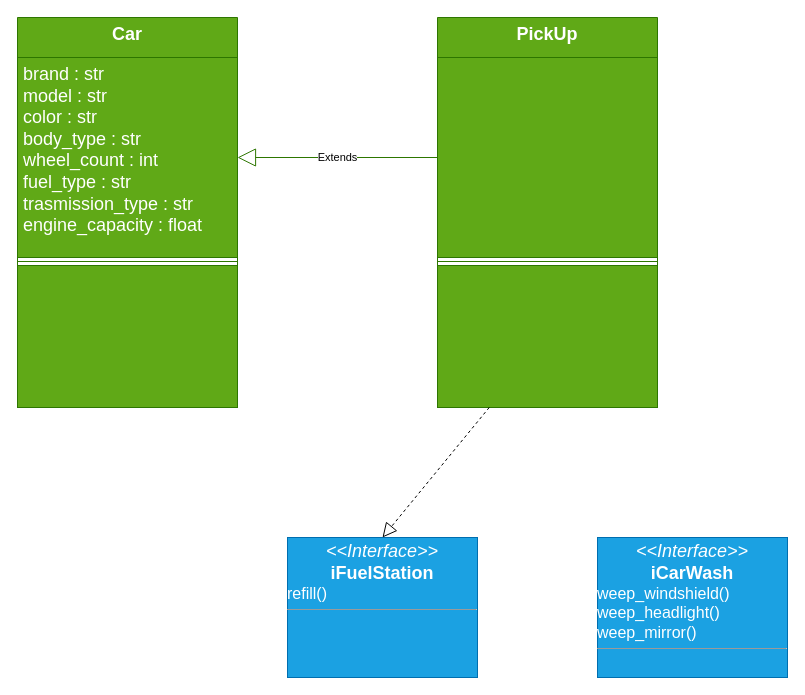
This 805x695 diagram has some shape labels left out. Here are the shapes that lost their labels. From the top down, the centre of each, then its label:
At point 547,157: "load_capacity : int".
At point 127,336: "move() service() gear_shifting() turn_lights() turn_wipers()".
At point 547,336: "sweep_street() refill()".
